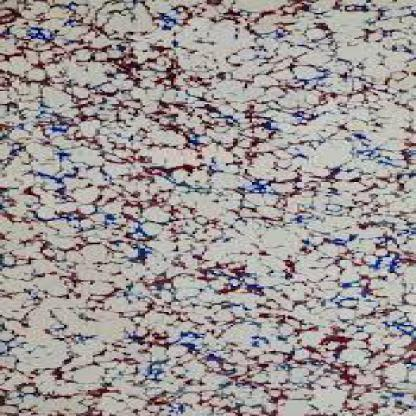Metamorphic_Marble: (5, 1, 414, 414)
